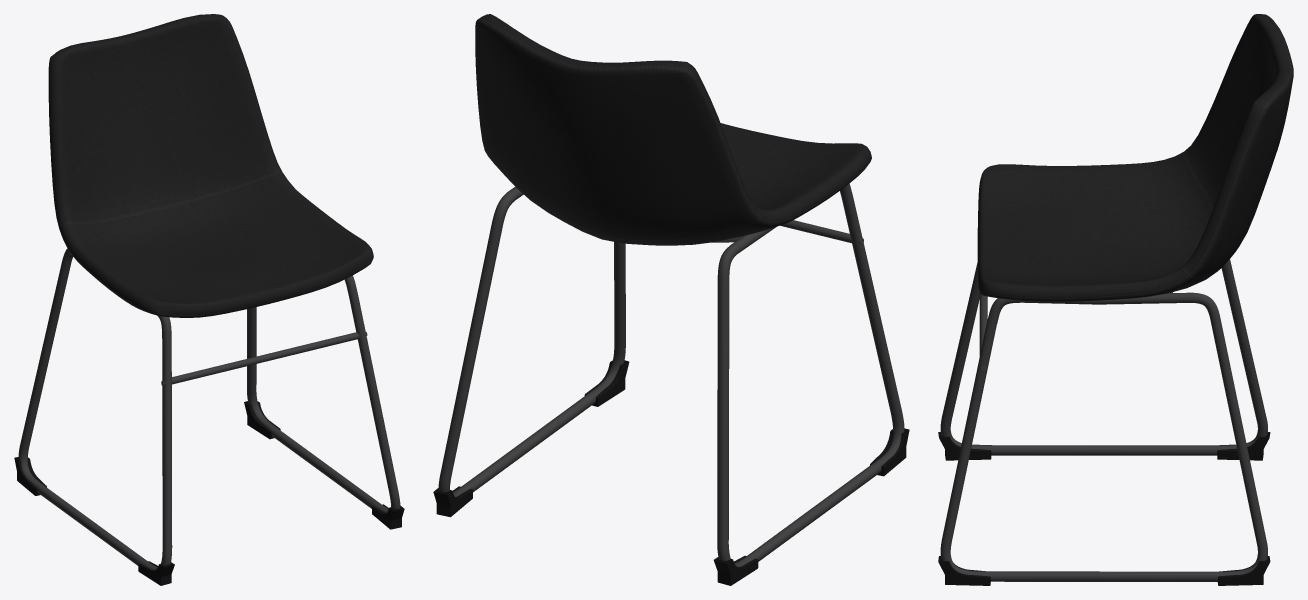
Rendered from scaun-modern-negru.033082ad89.glb.
The picture shows the model from 3 angles, left to right: view 1: azimuth 30°, elevation 25°; view 2: azimuth 150°, elevation 25°; view 3: azimuth 270°, elevation 25°; orthographic projection. The views are drawn at different scales.
Visible parts, largest first — view 1: myrick chair_Myrick Chair_0; view 2: myrick chair_Myrick Chair_0; view 3: myrick chair_Myrick Chair_0.
Boxes of the visible parts, box(x1,y1,x2,y2) form: myrick chair_Myrick Chair_0: box(14, 14, 404, 585); myrick chair_Myrick Chair_0: box(433, 14, 909, 585); myrick chair_Myrick Chair_0: box(938, 14, 1293, 585).
Size of the model in its own units: 0.508 by 0.8272 by 0.576.
3 materials, 2 textured.
